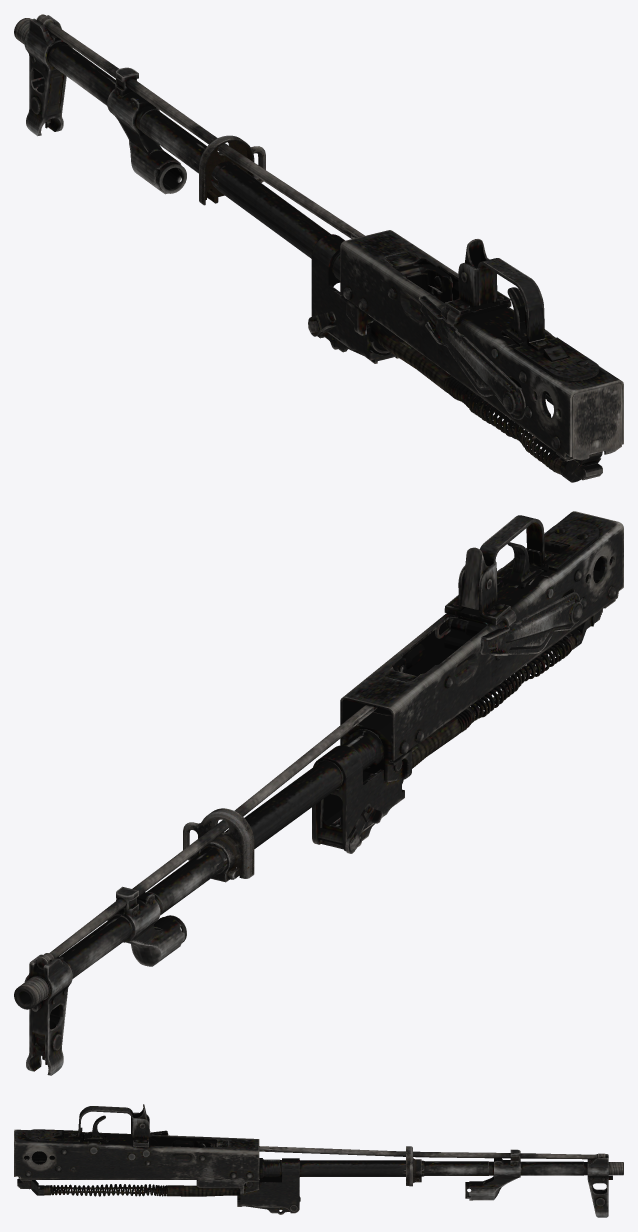
3 renders of one model, top to bottom at view 1: azimuth 30°, elevation 25°; view 2: azimuth 150°, elevation 25°; view 3: azimuth 270°, elevation 25°, orthographic. The views are drawn at different scales.
Visible parts, largest first — view 1: TW_59ff346386f77477562ff5e2_PZ_Import; view 2: TW_59ff346386f77477562ff5e2_PZ_Import; view 3: TW_59ff346386f77477562ff5e2_PZ_Import.
Part boxes in pixels (x1,y1,x2,y2): TW_59ff346386f77477562ff5e2_PZ_Import: [14, 14, 623, 482]; TW_59ff346386f77477562ff5e2_PZ_Import: [14, 511, 623, 1075]; TW_59ff346386f77477562ff5e2_PZ_Import: [14, 1104, 623, 1217].
Bounding box in the file's own units: 0.0291 × 0.3687 × 0.0736.
1 material, 1 textured.
